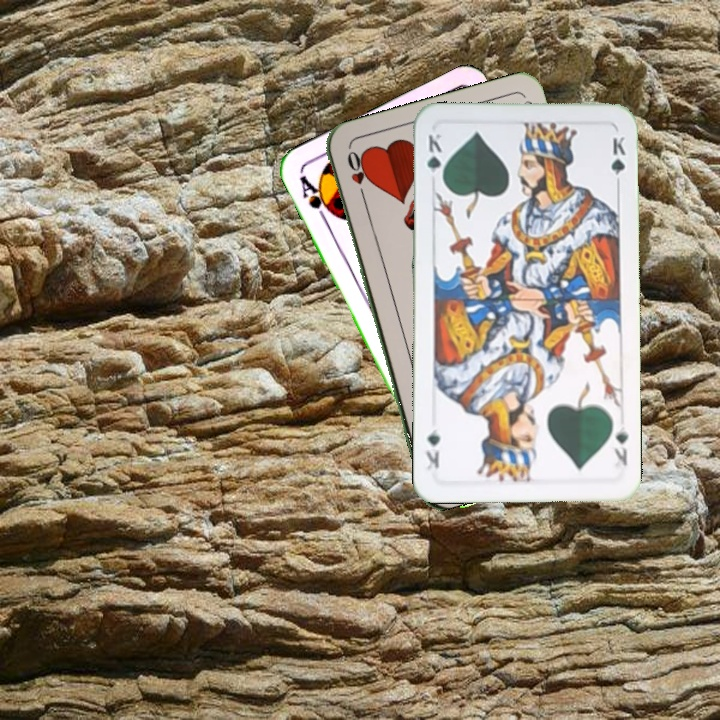GK: (422, 129, 445, 186), (611, 423, 630, 469)
HO: (343, 146, 369, 204)
SA: (295, 171, 337, 225)
